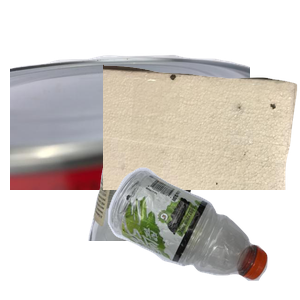glass: (86, 120, 277, 300)
metal: (10, 52, 250, 232)
plastic: (105, 165, 300, 300)
trash: (103, 62, 300, 242)
